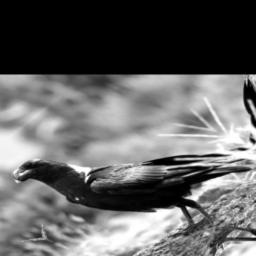Crow: (0, 96, 256, 256)
